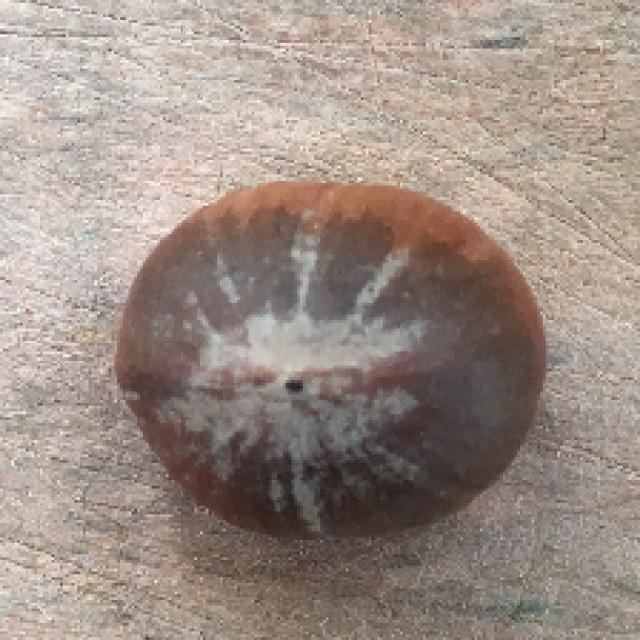damagedHazelnut: (110, 172, 558, 534)
